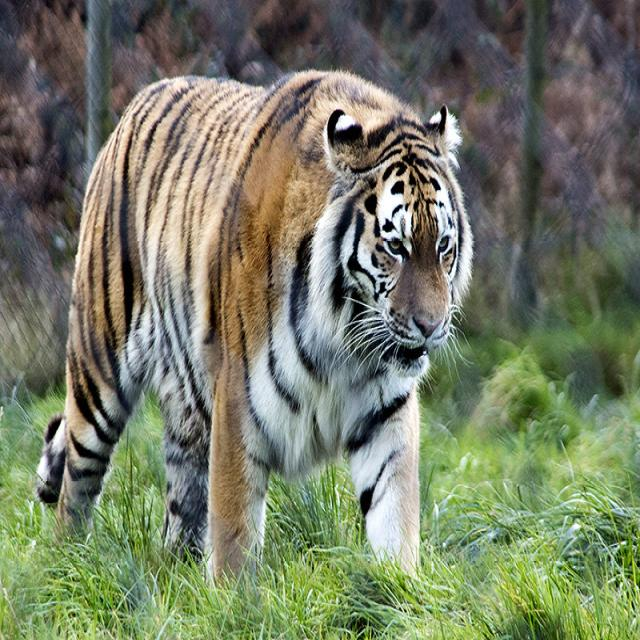Tiger: (37, 62, 477, 608)
